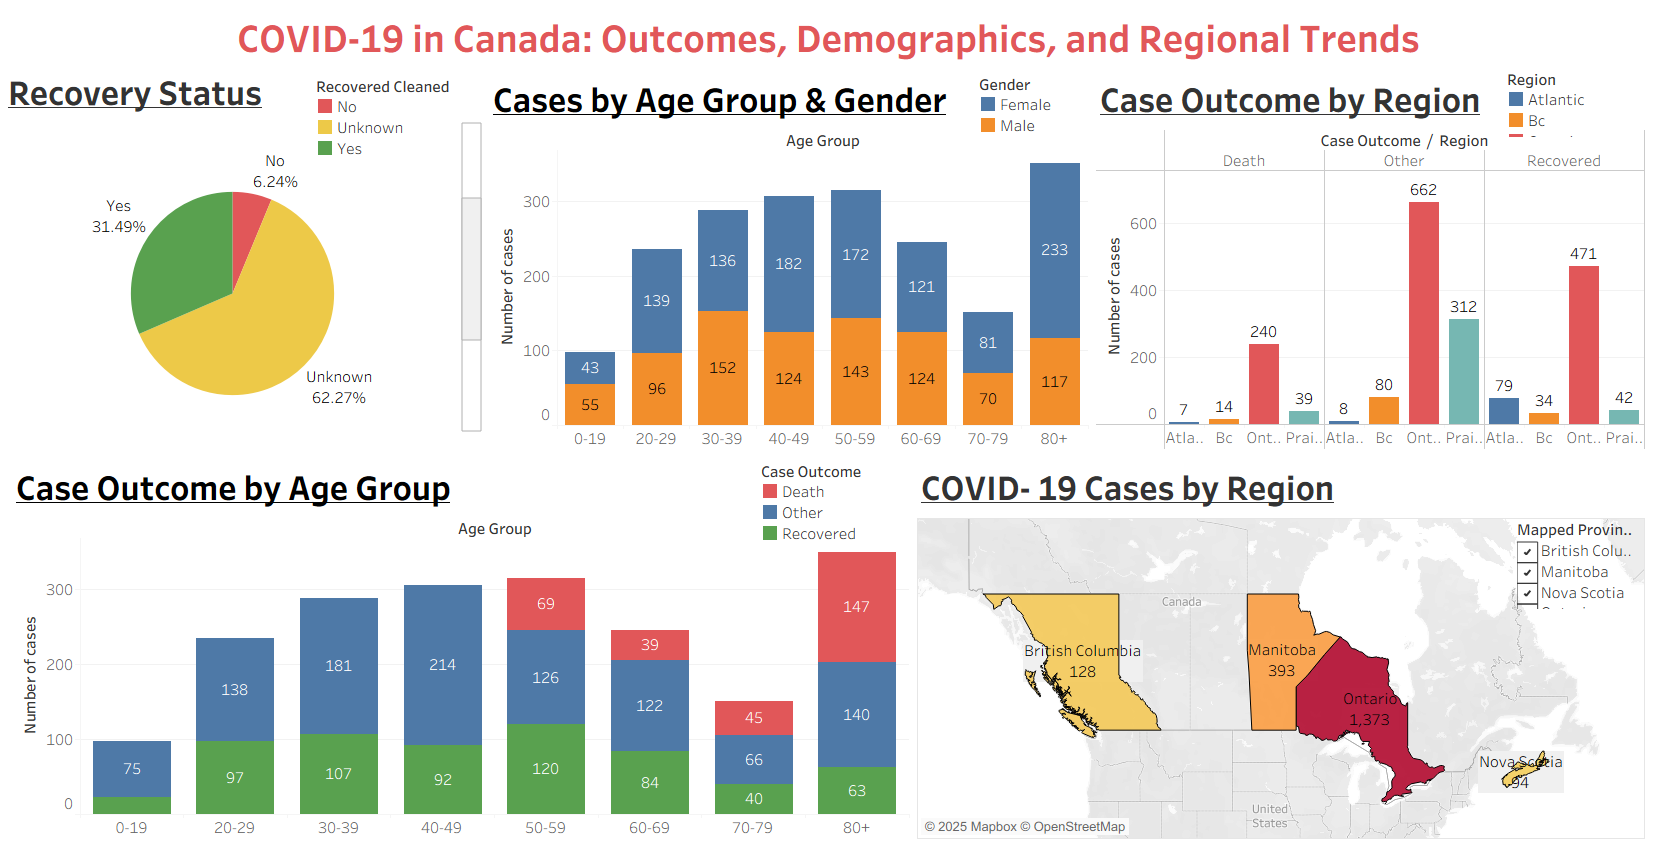

This screenshot's page, from the dashboard's own definition file:
{"tool":"tableau","page":{"name":"COVID-19 in Canada: Outcomes, Demographics, and Regional Trends","canvas":[1000,1000],"units":"permille","ordinal":0},"visuals":[{"type":"title","box":[4.8,9.4,990.3,68.2]},{"type":"worksheet","title":"Recovery Status","mark":"Pie","box":[2.4,74,288.5,432.4]},{"type":"worksheet","title":"Cases by Age Group & Gender","mark":"Automatic","rows":["case_identifier_number"],"cols":["age_group"],"box":[292.7,77.5,366.3,456]},{"type":"worksheet","title":"Case Outcome by Region","mark":"Automatic","rows":["case_identifier_number"],"cols":["Calculation_2025493995484528642","region"],"box":[659,77.5,336.2,456]},{"type":"legend","title":"Case Outcome by Region","param":"[federated.07rzj370h1gk8917l63sx0o4ol5v].[none:region:nk]","box":[908.9,78.7,74.2,82.3]},{"type":"legend","title":"Cases by Age Group & Gender","param":"[federated.07rzj370h1gk8917l63sx0o4ol5v].[none:gender:nk]","box":[590.2,84.6,56.1,81.1]},{"type":"legend","title":"Recovery Status","param":"[federated.07rzj370h1gk8917l63sx0o4ol5v].[none:Calculation_2025493995484323841:n","box":[190.1,87,82.7,99.9]},{"type":"worksheet","title":"Case Outcome by Age Group","mark":"Automatic","rows":["case_identifier_number"],"cols":["age_group"],"box":[4.8,533.5,546.2,457.1]},{"type":"worksheet","title":"COVID- 19 Cases by Region","mark":"Automatic","box":[551.1,533.5,444.1,457.1]},{"type":"legend","title":"Case Outcome by Age Group","param":"[federated.07rzj370h1gk8917l63sx0o4ol5v].[none:Calculation_2025493995484528642:n","box":[458.7,539.4,85.1,99.9]},{"type":"filter","title":"COVID- 19 Cases by Region","param":"[federated.07rzj370h1gk8917l63sx0o4ol5v].[none:Calculation_2025493995491667971:n","box":[915.5,608.7,73,106.9]}]}

Visuals, with their boxes on the dashboard's canvas, which has no fixed pixel size, in thousandths of its width and height (x1, y1, x2, y2). These are canvas units, not pixel positions in the 1657x851 screenshot, which may show the page scaled, cropped or inside an application window:
title: l=5, t=9, r=995, b=78
"Recovery Status" worksheet (Pie marks): l=2, t=74, r=291, b=506
"Cases by Age Group & Gender" worksheet: l=293, t=78, r=659, b=534
"Case Outcome by Region" worksheet: l=659, t=78, r=995, b=534
"Case Outcome by Region" legend: l=909, t=79, r=983, b=161
"Cases by Age Group & Gender" legend: l=590, t=85, r=646, b=166
"Recovery Status" legend: l=190, t=87, r=273, b=187
"Case Outcome by Age Group" worksheet: l=5, t=534, r=551, b=991
"COVID- 19 Cases by Region" worksheet: l=551, t=534, r=995, b=991
"Case Outcome by Age Group" legend: l=459, t=539, r=544, b=639
"COVID- 19 Cases by Region" filter: l=916, t=609, r=988, b=716
